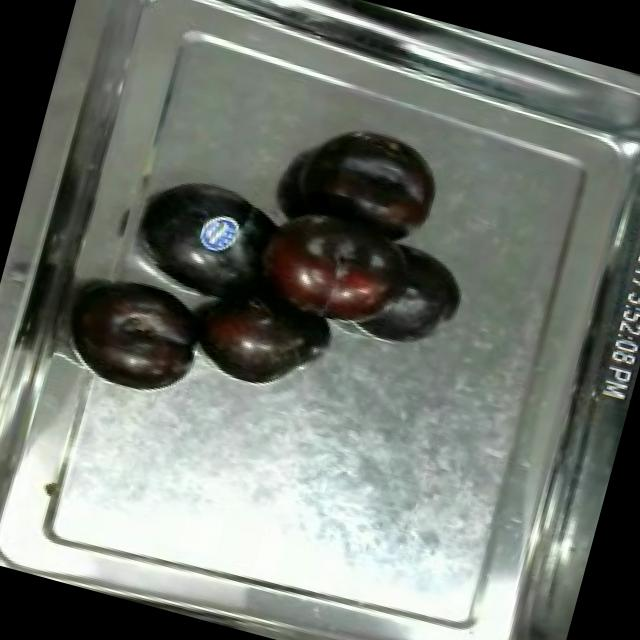Fruit: (120, 159, 292, 314), (310, 221, 478, 359), (58, 268, 220, 408), (179, 272, 329, 400), (236, 193, 370, 329)
